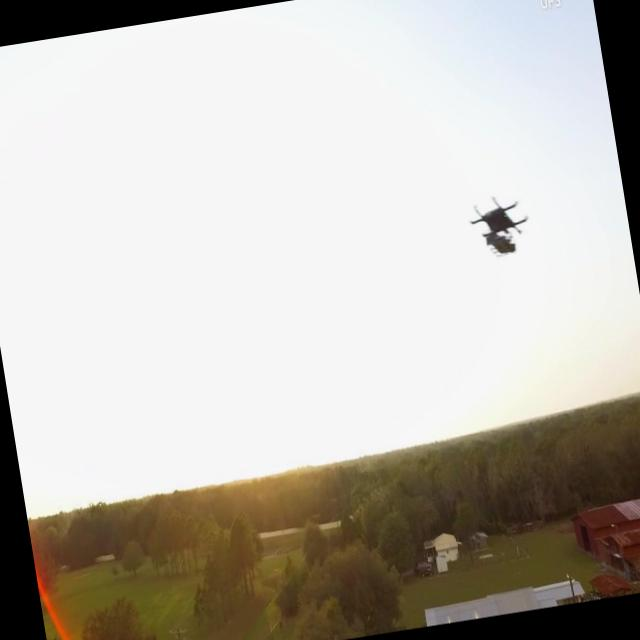drone: (467, 192, 535, 264)
